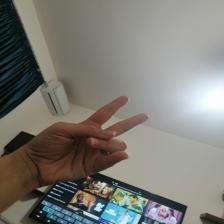two: (34, 94, 156, 176)
